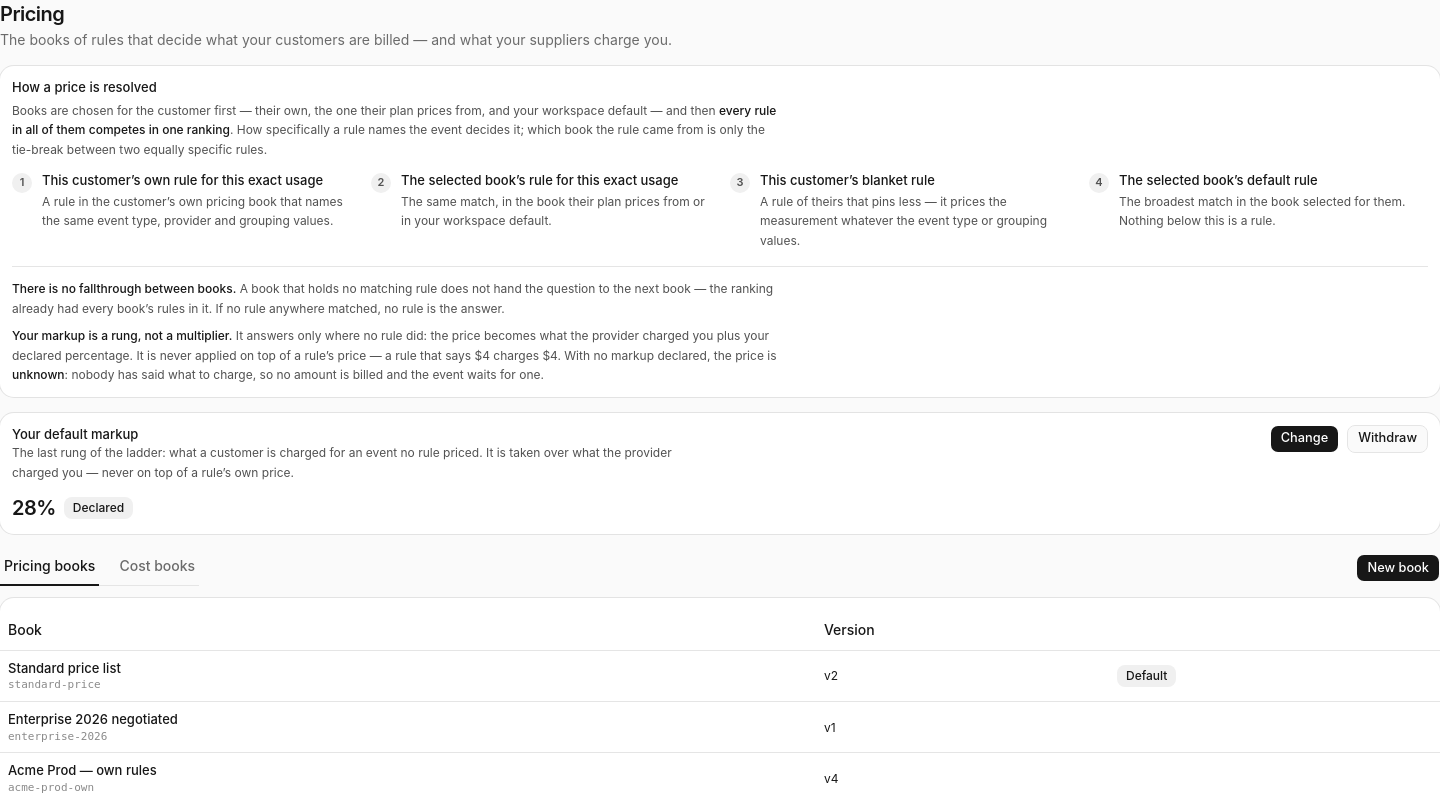
Scenario: declaring a book › declares a Pricing Book, and it appears in the list
Expected: the text "Standard price list" is shown, [8, 660, 121, 676]
Click the button "New book": (1398, 568) [1356, 554, 1439, 582]
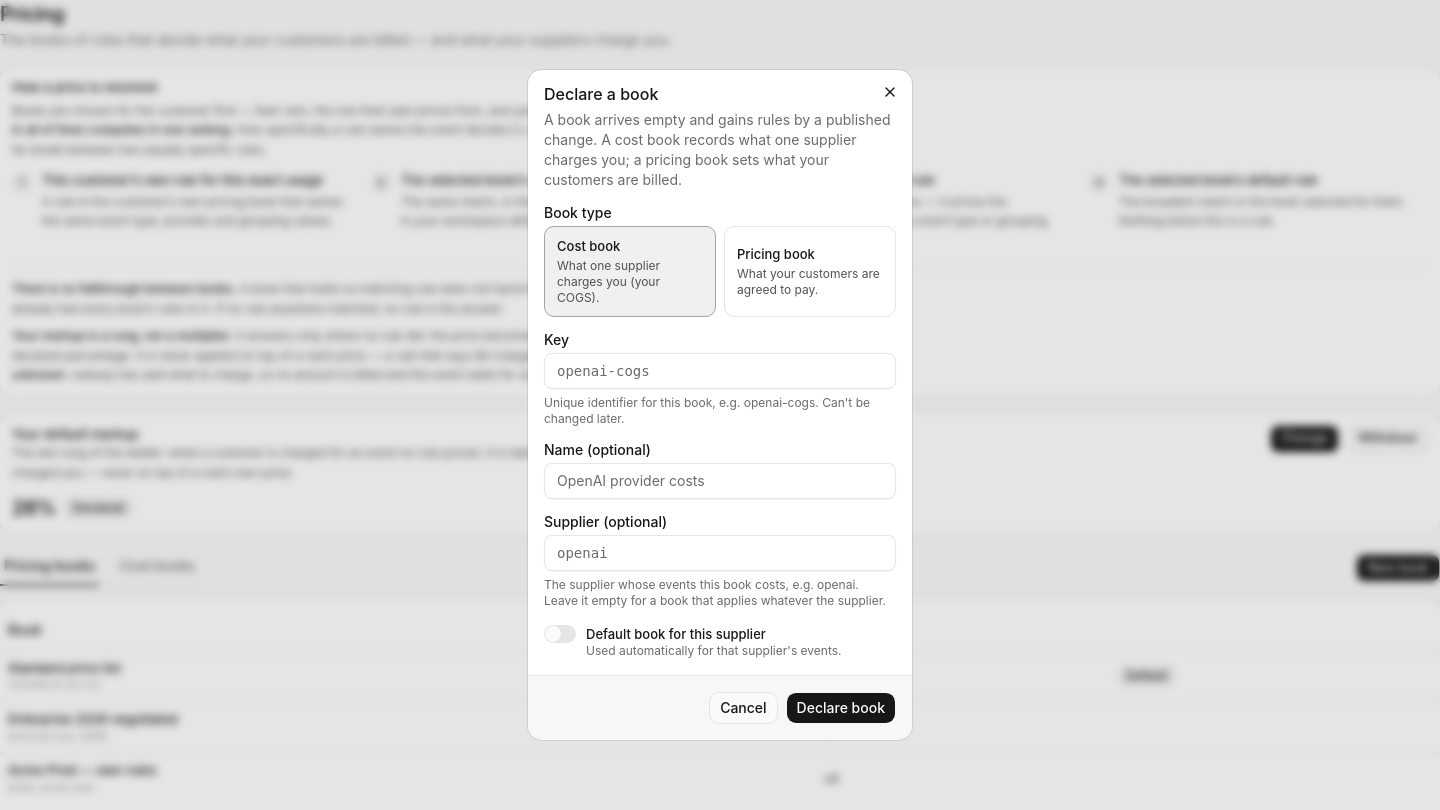
Click the button "Pricing book What your customers are agreed to pay.": (810, 271) [724, 226, 896, 316]
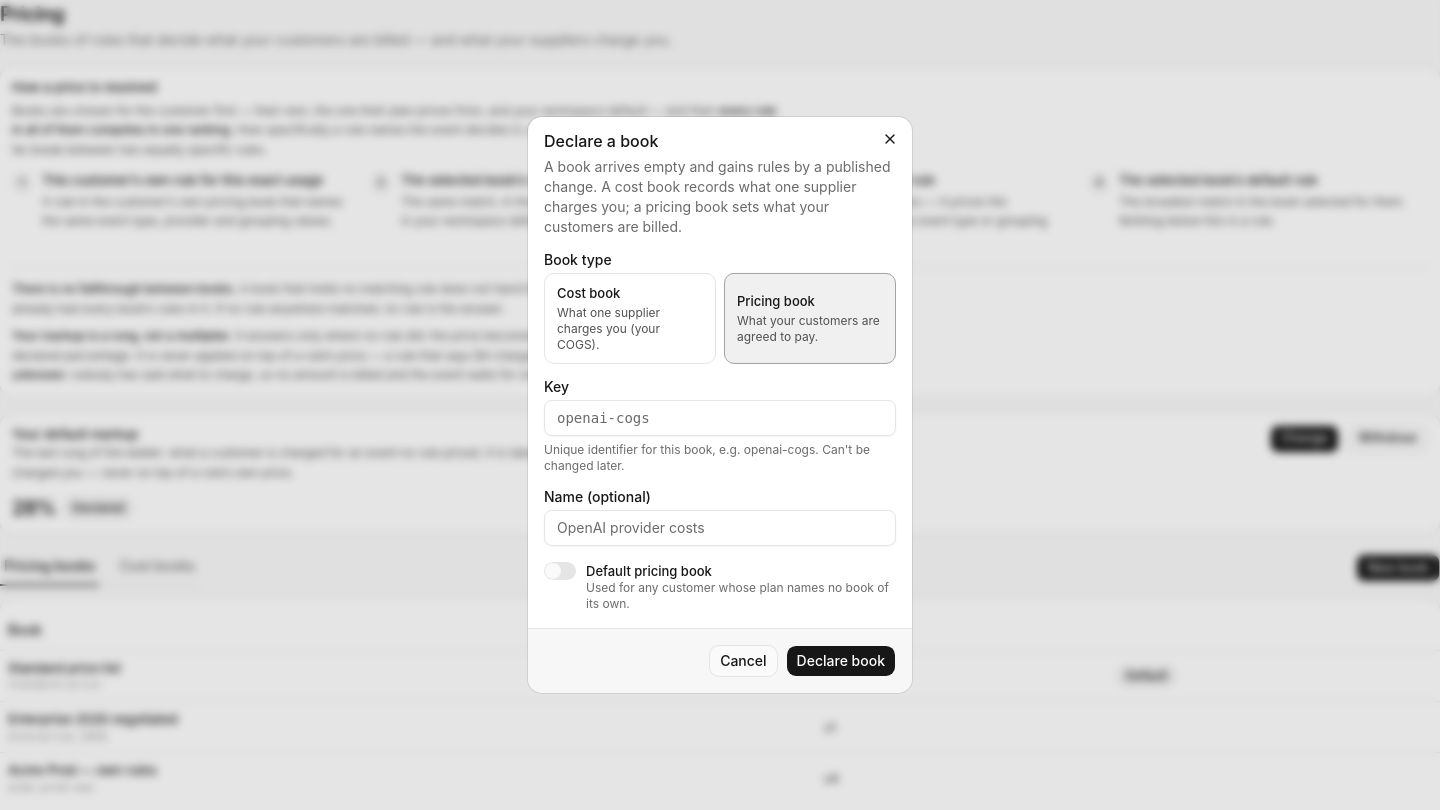
In the field labelled "Key": (720, 418) [544, 400, 896, 436], type "partner-2027"
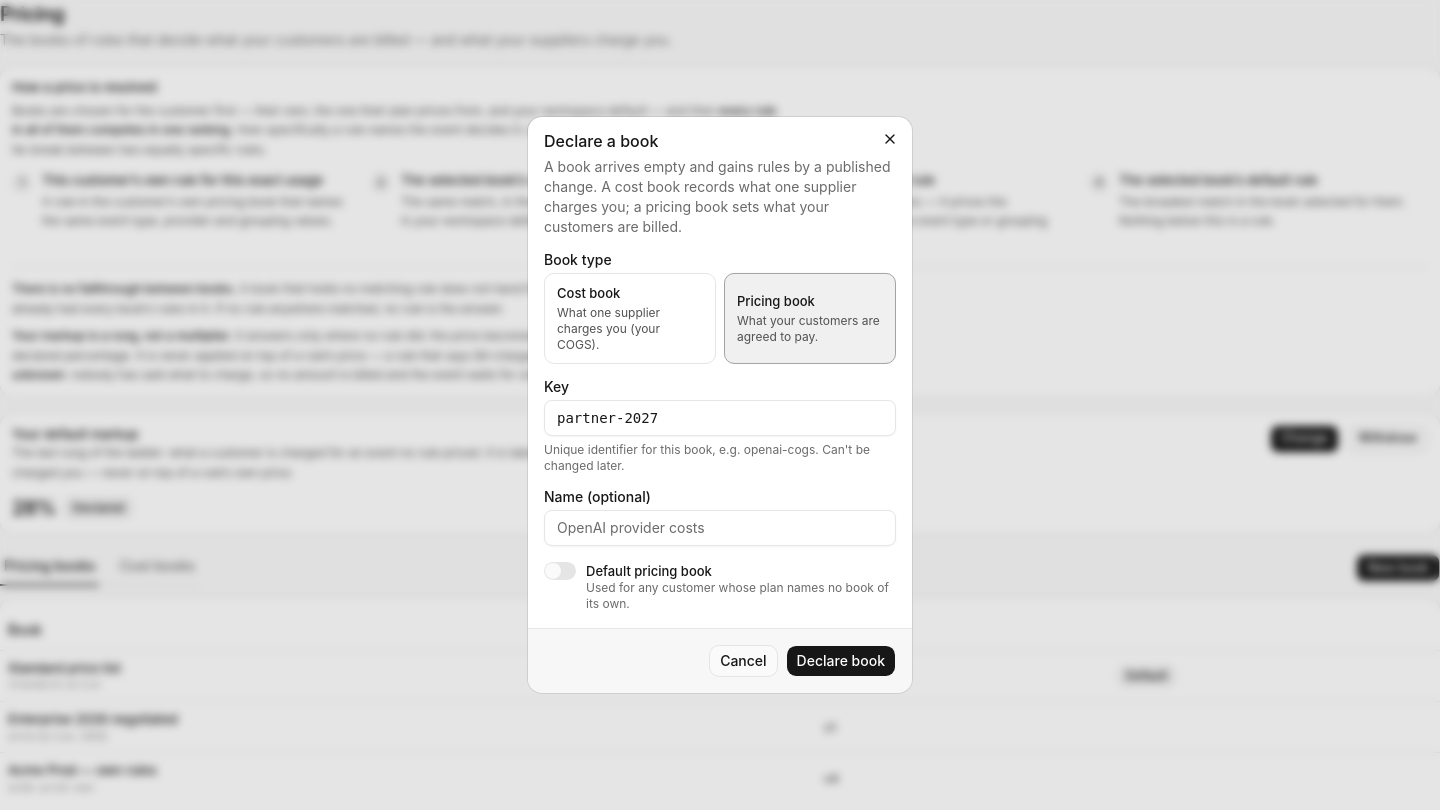
In the field labelled "Name (optional)": (720, 528) [544, 510, 896, 546], type "Partner rates 2027"
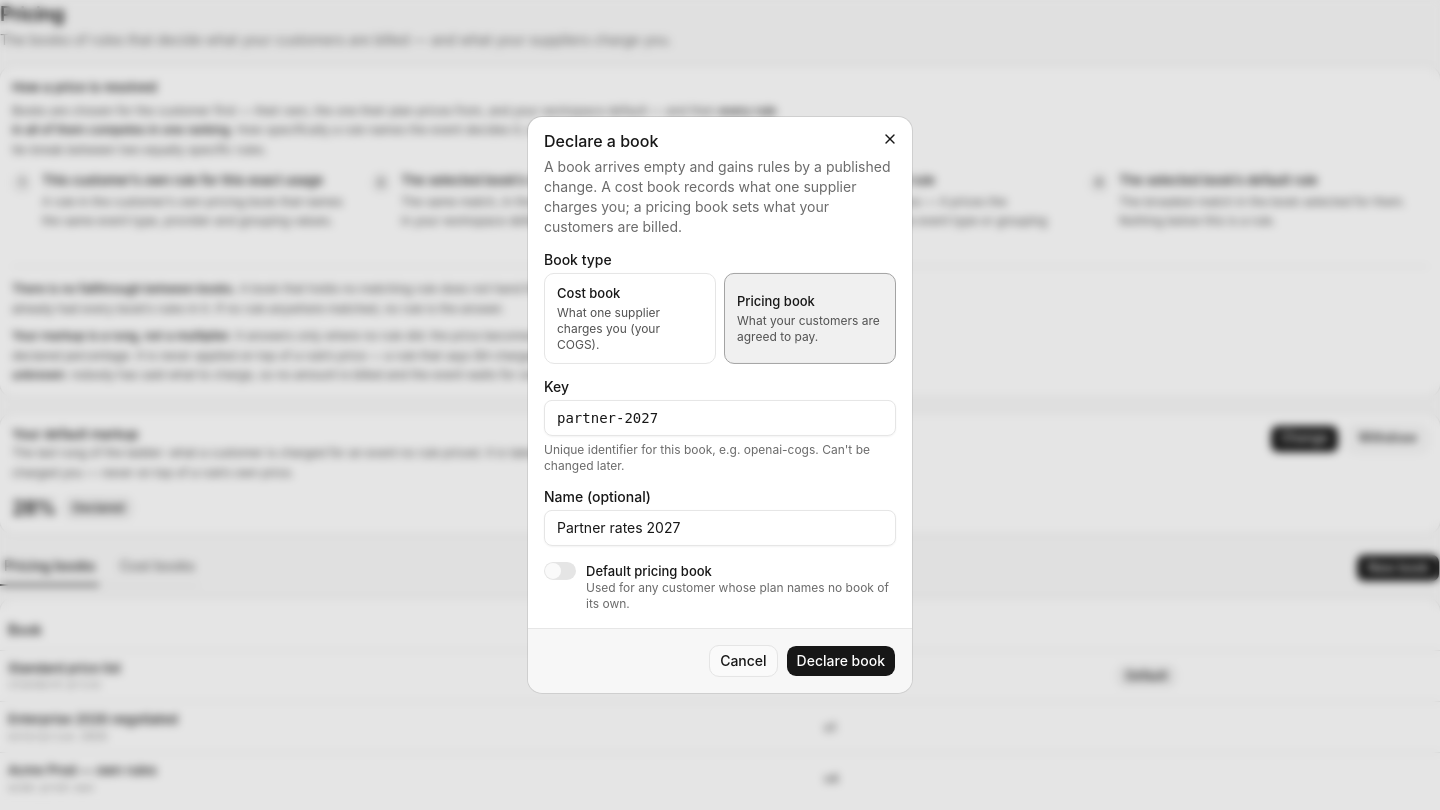
Click the button "Declare book": (841, 661) [786, 645, 896, 677]
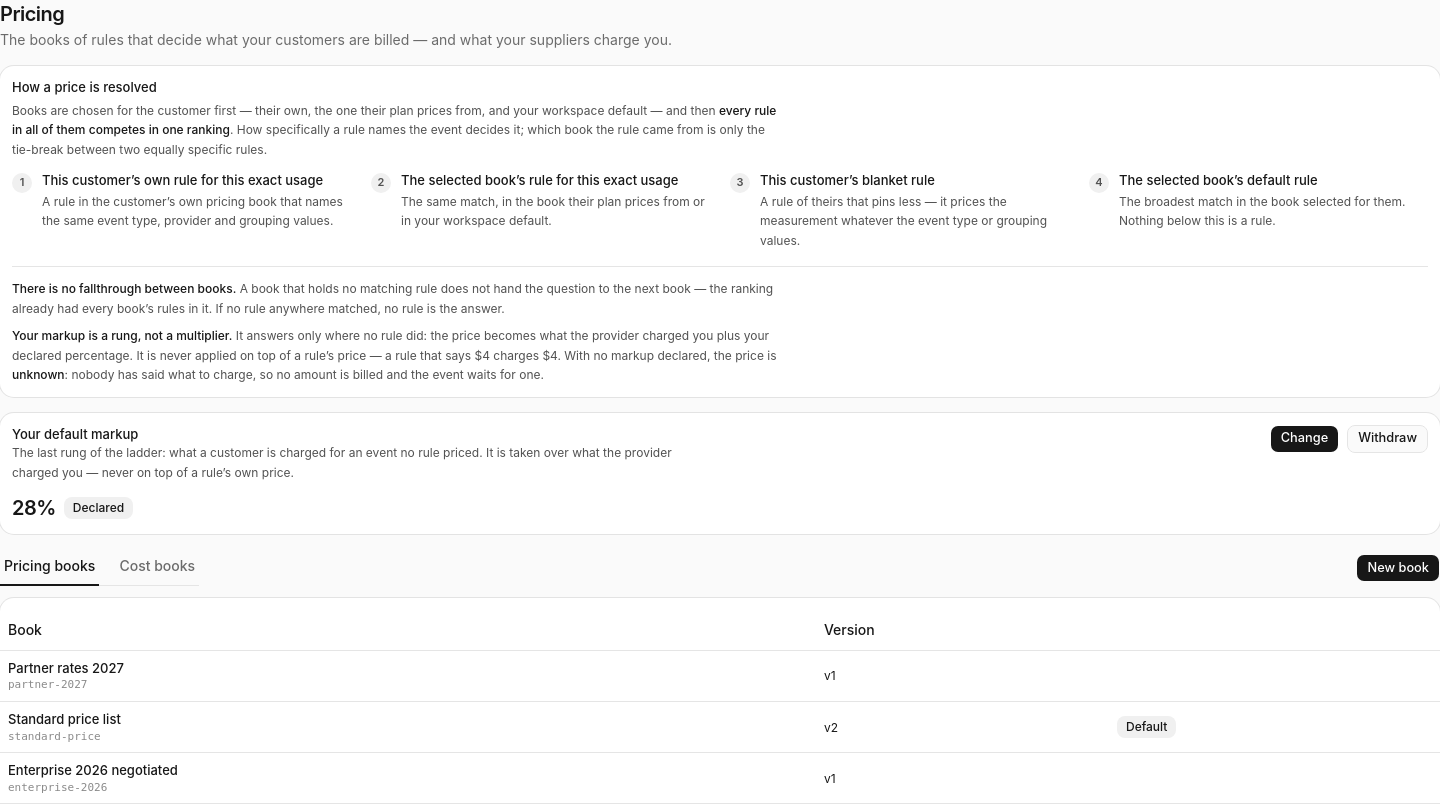
Expected: the text "Partner rates 2027" is shown, [8, 660, 124, 676]
Expected: the text "partner-2027" is shown, [8, 678, 88, 691]
